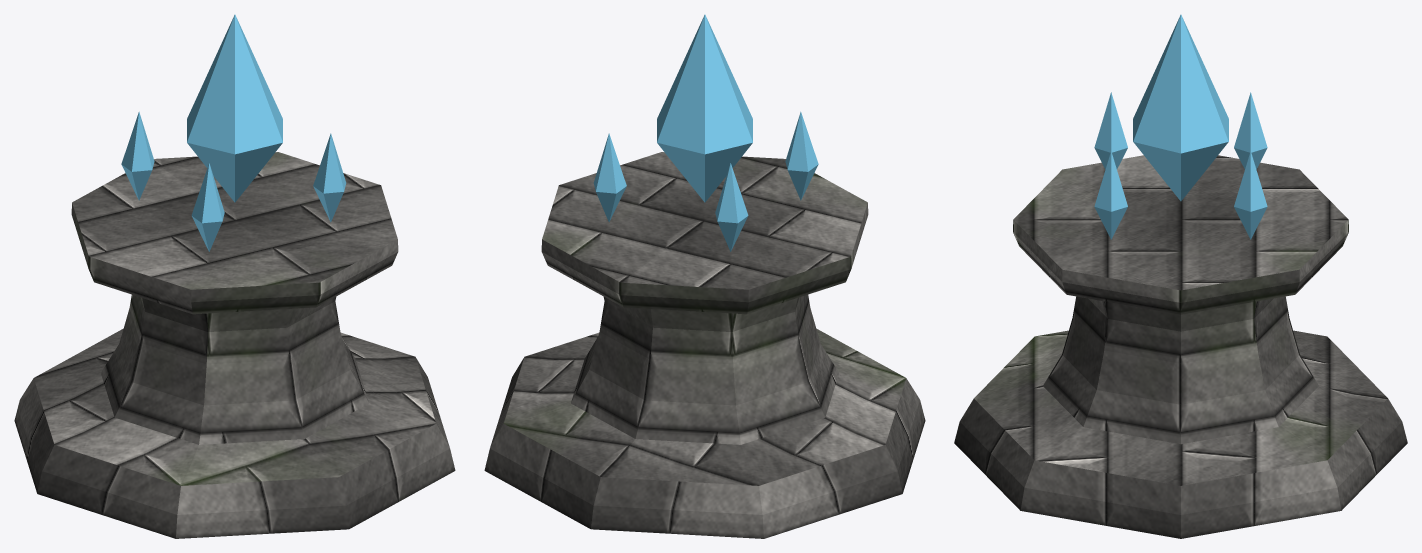
File: shrine.obj
3 renders of one model, left to right at view 1: azimuth 30°, elevation 25°; view 2: azimuth 150°, elevation 25°; view 3: azimuth 270°, elevation 25°, orthographic.
Size of the model in its own units: 2.3 by 2.4 by 2.3.
2 materials, 1 textured.
